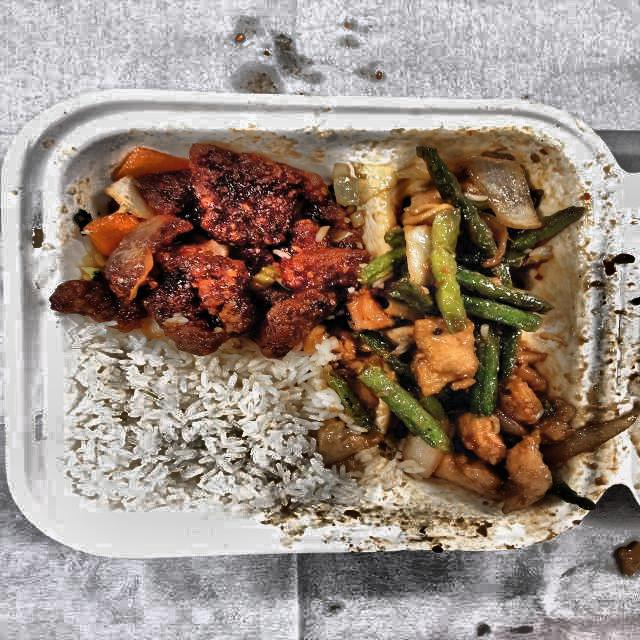Food: (344, 143, 574, 506), (70, 134, 356, 352), (68, 348, 318, 513)
